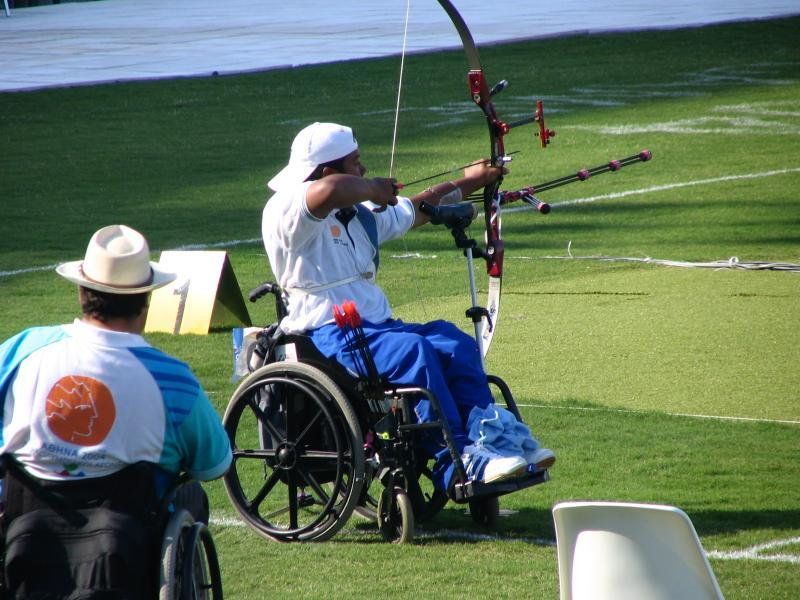person: (265, 121, 558, 500)
